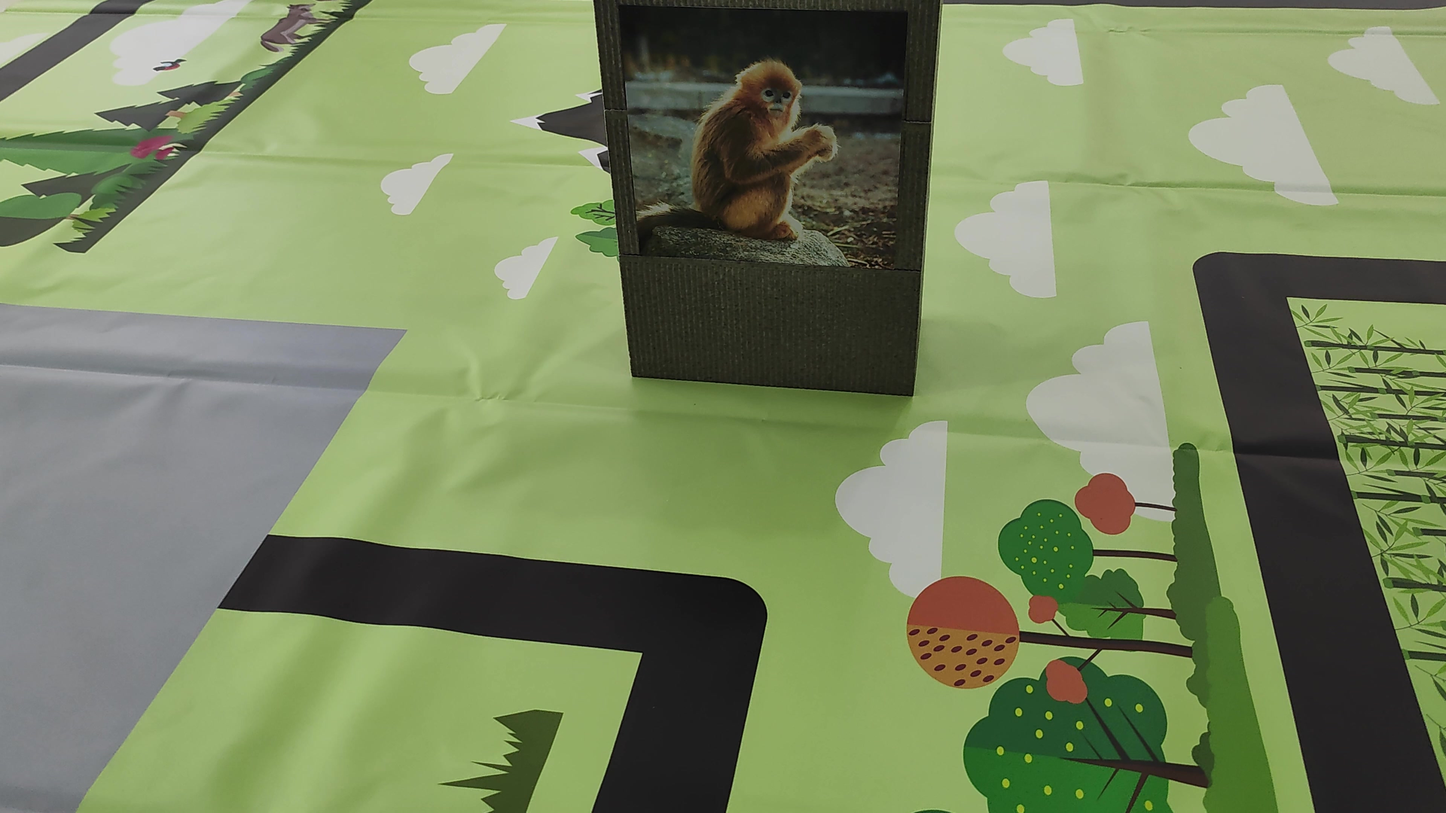monkey: (623, 48, 885, 278)
